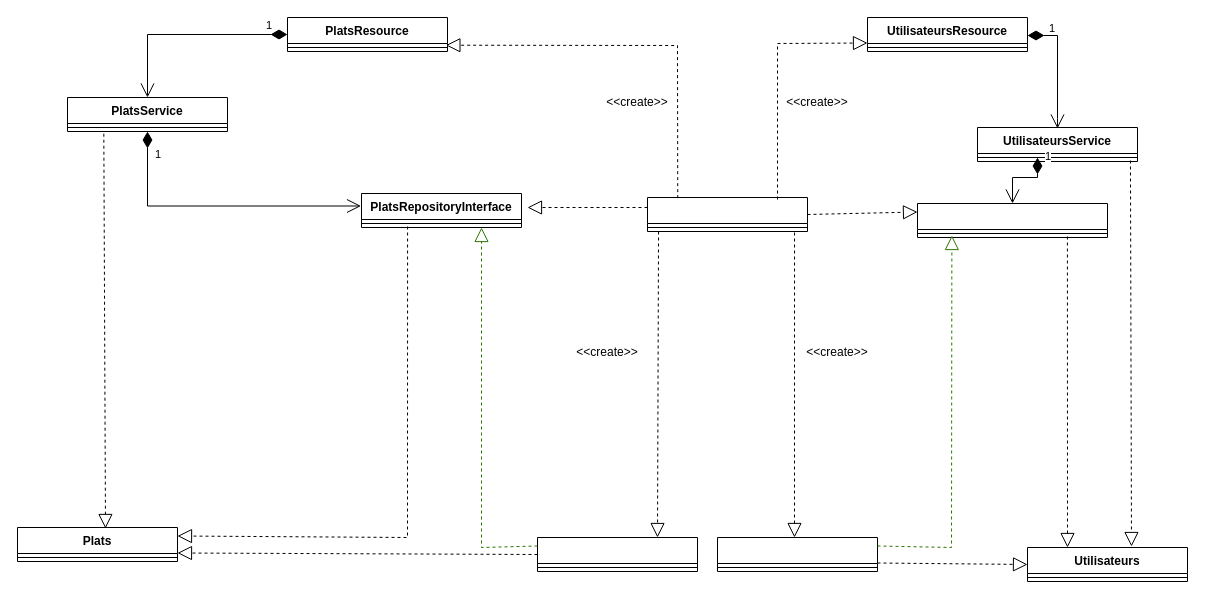
This 1205x599 diagram has some shape labels left out. Here are the shapes that lost their labels. From the top down, the centre of each, then its label:
At (727,214): "PlatsUtilisateursApplication".
At (1012,220): "Utilisateurs RepositoryInterface".
At (617,554): "PlatsRepositoryMariadb".
At (797,554): "Utilisateurs RepositoryMariadb".
